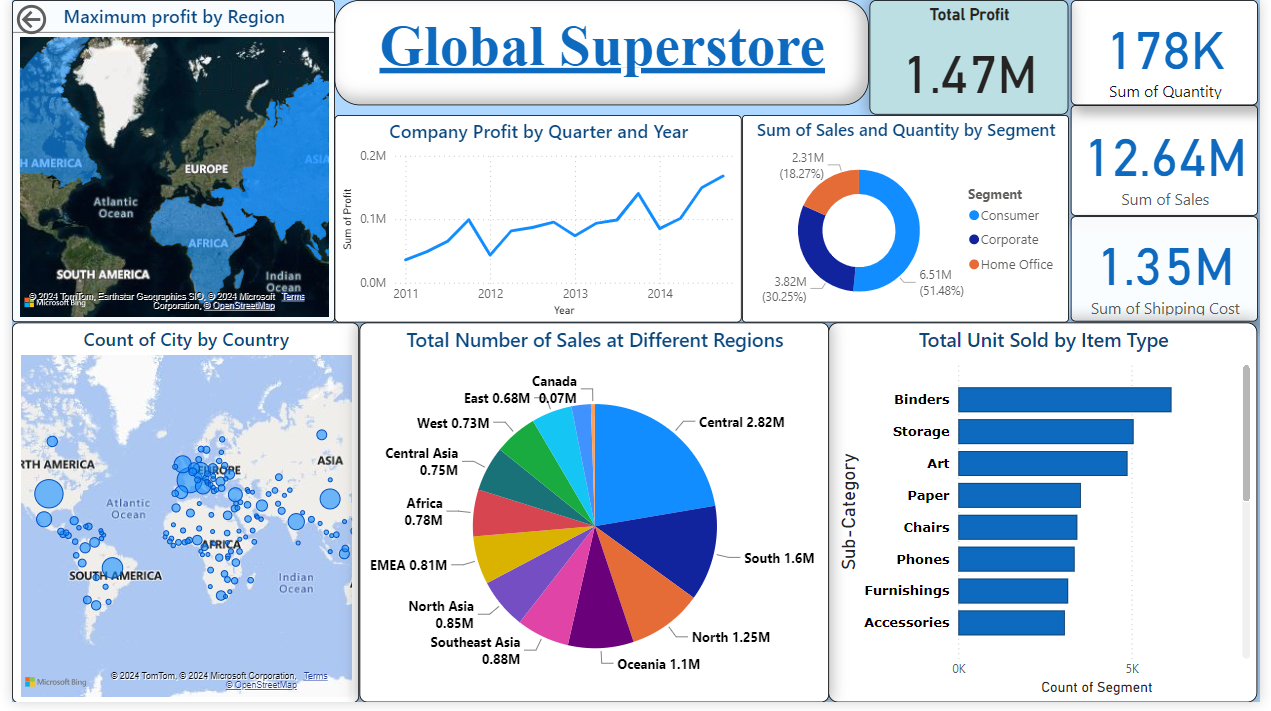

What the dashboard file says about the page in this screenshot:
{"tool":"powerbi","page":{"name":"Page 1","canvas":[1280,720],"ordinal":0},"visuals":[{"type":"card","fields":{"Values":["Sum(Orders.Sales)"]},"box":[1086,108.1,191.9,114],"z":0},{"type":"card","fields":{"Values":["Sum(Orders.Shipping Cost)"]},"box":[1086,222.1,191.9,108.1],"z":1000},{"type":"card","fields":{"Values":["Sum(Orders.Quantity)"]},"box":[1086,0,191.9,108.1],"z":2000},{"type":"card","title":"Total Profit","fields":{"Values":["Sum(Orders.Profit)"]},"box":[879.5,0,203.8,117.9],"z":3000},{"type":"barChart","title":"Total Unit Sold by Item Type","fields":{"Category":["Orders.Sub-Category"],"Y":["CountNonNull(Orders.Segment)"]},"box":[837.5,330.5,440,389.7],"z":4000},{"type":"map","fields":{"Category":["Orders.Country"],"Size":["Count(Orders.City)"]},"box":[0,330.2,355.8,390.7],"z":5000},{"type":"pieChart","title":"Total Number of Sales at Different Regions","fields":{"Y":["Sum(Orders.Sales)"],"Category":["Orders.Region"]},"box":[356.2,330.5,481.3,389.7],"z":6000},{"type":"filledMap","title":"Maximum profit by Region","fields":{"Category":["Orders.Region"]},"box":[0,0,331.4,330.2],"z":7000},{"type":"actionButton","box":[0,0,100,40],"z":8000},{"type":"donutChart","title":"Sum of Sales and Quantity by Segment","fields":{"Category":["Orders.Segment"],"Y":["Sum(Orders.Sales)"]},"box":[748.8,117.4,334.9,212.8],"z":9000},{"type":"lineChart","title":"Company Profit by Quarter and Year","fields":{"Y":["Sum(Orders.Profit)"],"Category":["Orders.Order Date.Variation.Date Hierarchy.Year","Orders.Order Date.Variation.Date Hierarchy.Quarter"]},"box":[331.4,117.4,417.4,212.8],"z":10000},{"type":"textbox","box":[331.4,0,547.7,108.1],"z":11000}]}

Visuals, with their boxes in screenshot pixels (x1, y1, x2, y2), scaled from the page's 1280x720 canvas onto the 1271x711 screenshot:
card - Sum(Orders.Sales): region(1078, 107, 1269, 219)
card - Sum(Orders.Shipping Cost): region(1078, 219, 1269, 326)
card - Sum(Orders.Quantity): region(1078, 0, 1269, 107)
"Total Profit" card: region(873, 0, 1076, 116)
"Total Unit Sold by Item Type" barChart: region(832, 326, 1269, 710)
map - Orders.Country x Count(Orders.City): region(0, 326, 353, 710)
"Total Number of Sales at Different Regions" pieChart: region(354, 326, 832, 710)
"Maximum profit by Region" filledMap: region(0, 0, 329, 326)
actionButton: region(0, 0, 99, 40)
"Sum of Sales and Quantity by Segment" donutChart: region(744, 116, 1076, 326)
"Company Profit by Quarter and Year" lineChart: region(329, 116, 744, 326)
textbox: region(329, 0, 873, 107)
